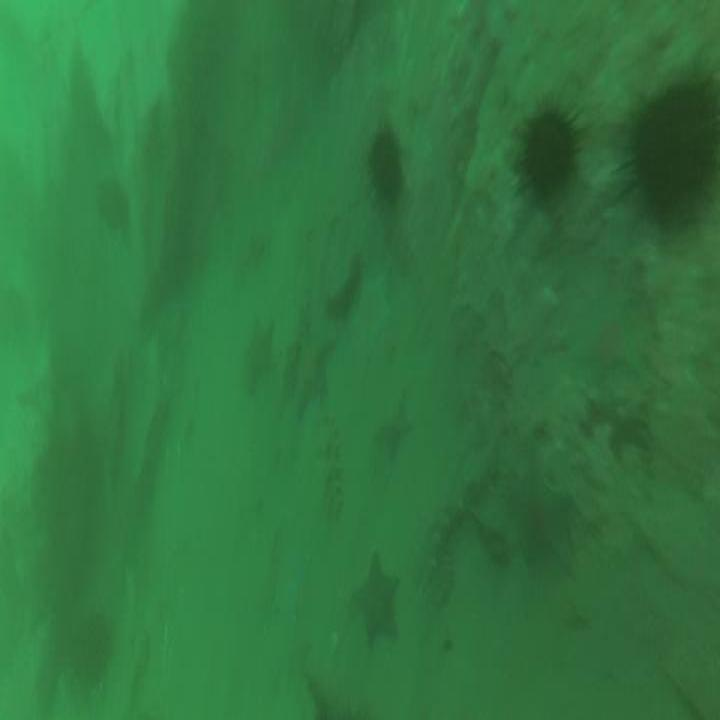echinus: (621, 80, 720, 228), (512, 96, 588, 206), (365, 115, 407, 210), (92, 166, 131, 238)
starfish: (504, 453, 580, 583), (348, 549, 404, 656), (597, 375, 656, 466), (285, 336, 337, 420), (238, 320, 279, 396), (377, 395, 415, 462)
